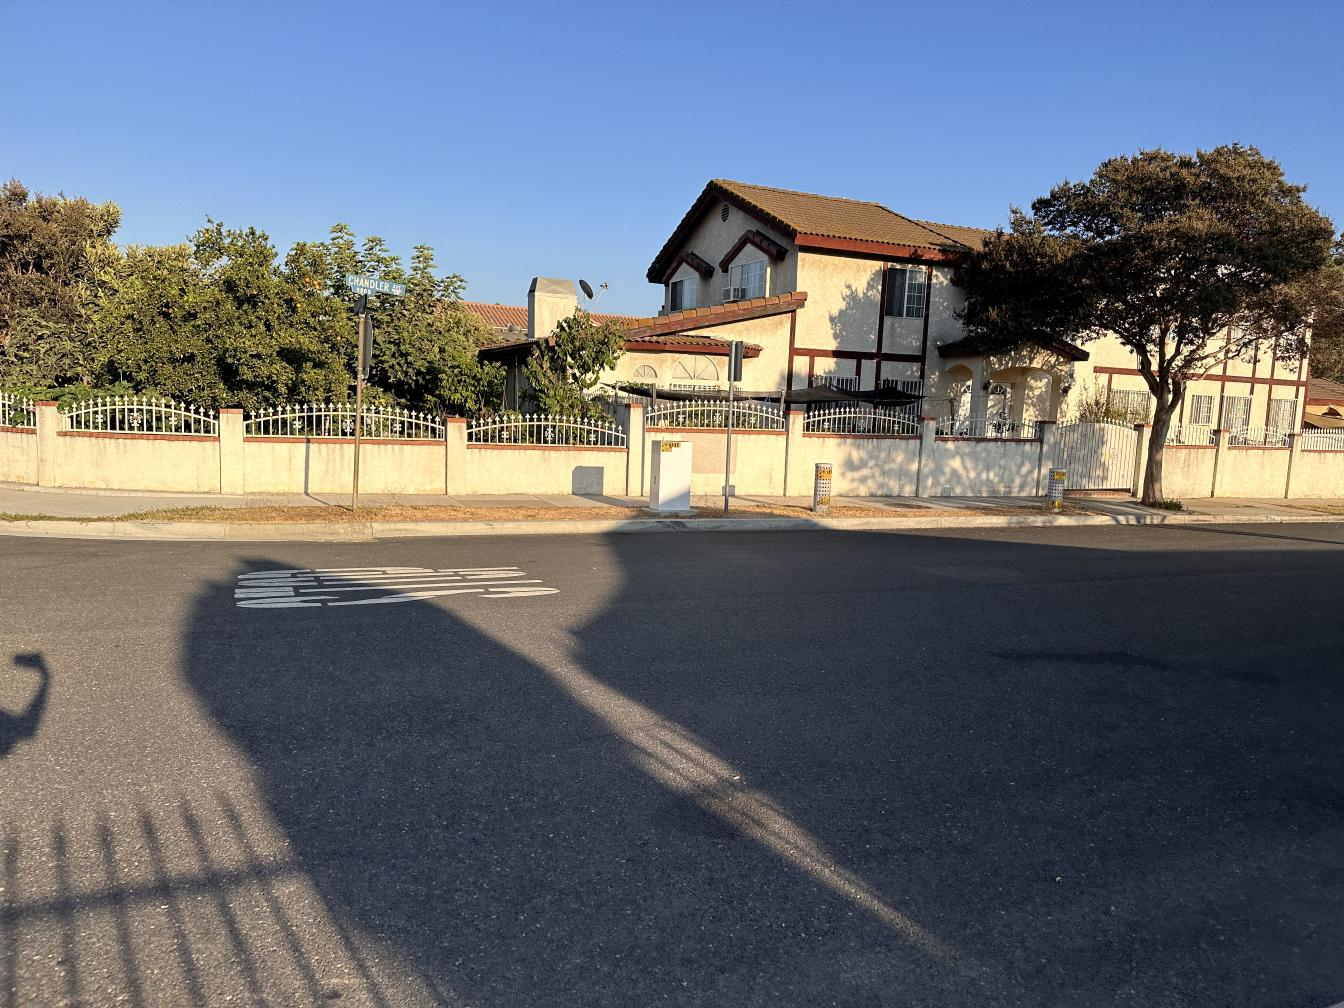curbs-laRr: (4, 516, 437, 542), (816, 514, 1343, 529), (444, 518, 802, 536)
